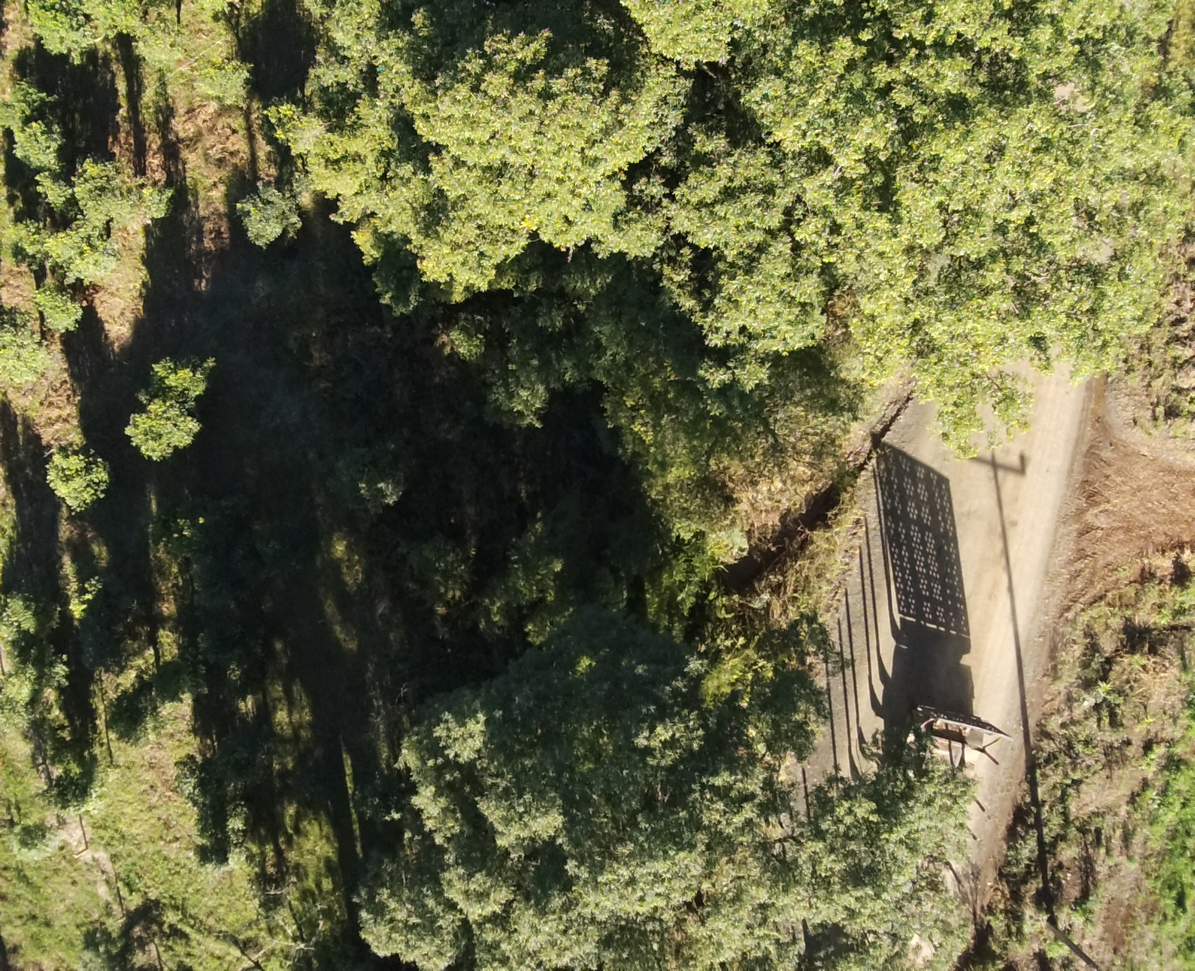erva: (72, 157, 172, 244), (222, 170, 311, 259), (119, 397, 211, 474), (40, 432, 120, 517), (146, 337, 225, 409), (19, 0, 108, 63), (180, 52, 265, 117), (0, 323, 62, 404), (22, 214, 90, 273), (120, 17, 196, 69), (10, 117, 68, 178), (31, 276, 93, 331), (66, 237, 122, 291), (5, 77, 49, 134), (22, 165, 76, 211)
